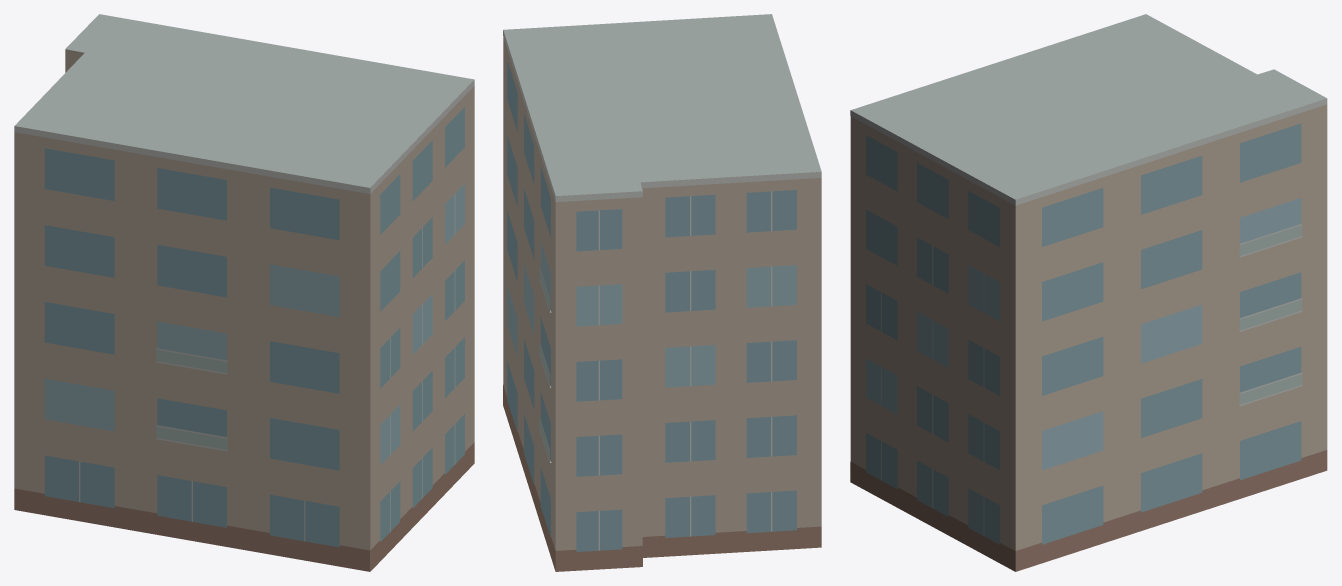
File: survey-upis-32759086.glb
3 renders of one model, left to right at view 1: azimuth 30°, elevation 25°; view 2: azimuth 150°, elevation 25°; view 3: azimuth 270°, elevation 25°, orthographic. The views are drawn at different scales.
Parts seen in each view (by area): view 1: survey-upis-32759086.tmp; view 2: survey-upis-32759086.tmp; view 3: survey-upis-32759086.tmp.
Part boxes in pixels (<box>): survey-upis-32759086.tmp: <box>14,14,474,571</box>; survey-upis-32759086.tmp: <box>503,14,821,571</box>; survey-upis-32759086.tmp: <box>850,14,1327,571</box>.
Size of the model in its own units: 16.34 by 15.25 by 17.72.
